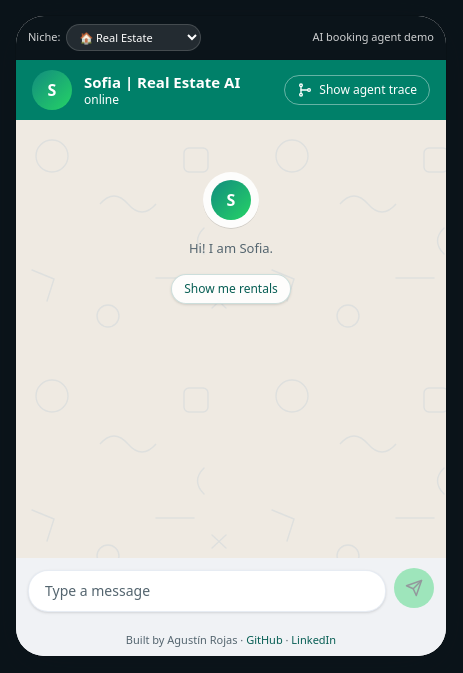
Test: chat flow › shows the handoff notice and locks the input but keeps the conversation readable
Check: the heading "Sofia | Real Estate AI" is shown, box [84,72,240,92]
Check: the text "Hi! I am Sofia." is shown, box [189,240,273,258]
Type "I want a human" into the text box labelled "message" at [207, 590], box [45,576,369,604]
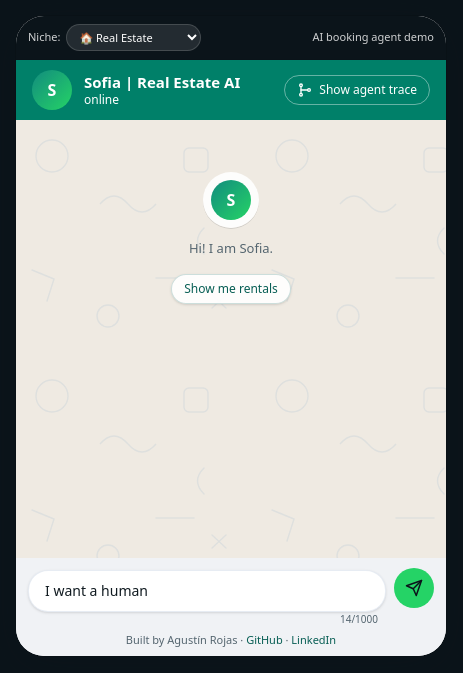
Press Enter in the text box named "message", box [45,576,369,604]
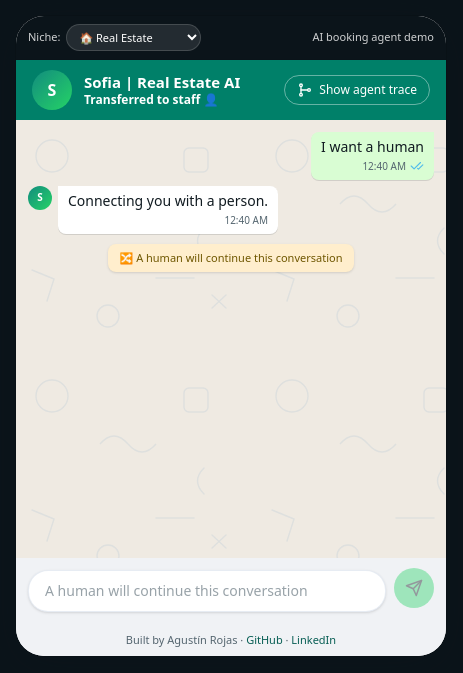
Check: the text "🔀 A human will continue this conversation" is shown, box [108,244,354,272]
Check: the text "Connecting you with a person." is shown, box [68,192,268,211]
Check: the text with test id "chat-status" reads "Transferred to staff 👤", box [84,91,218,108]
